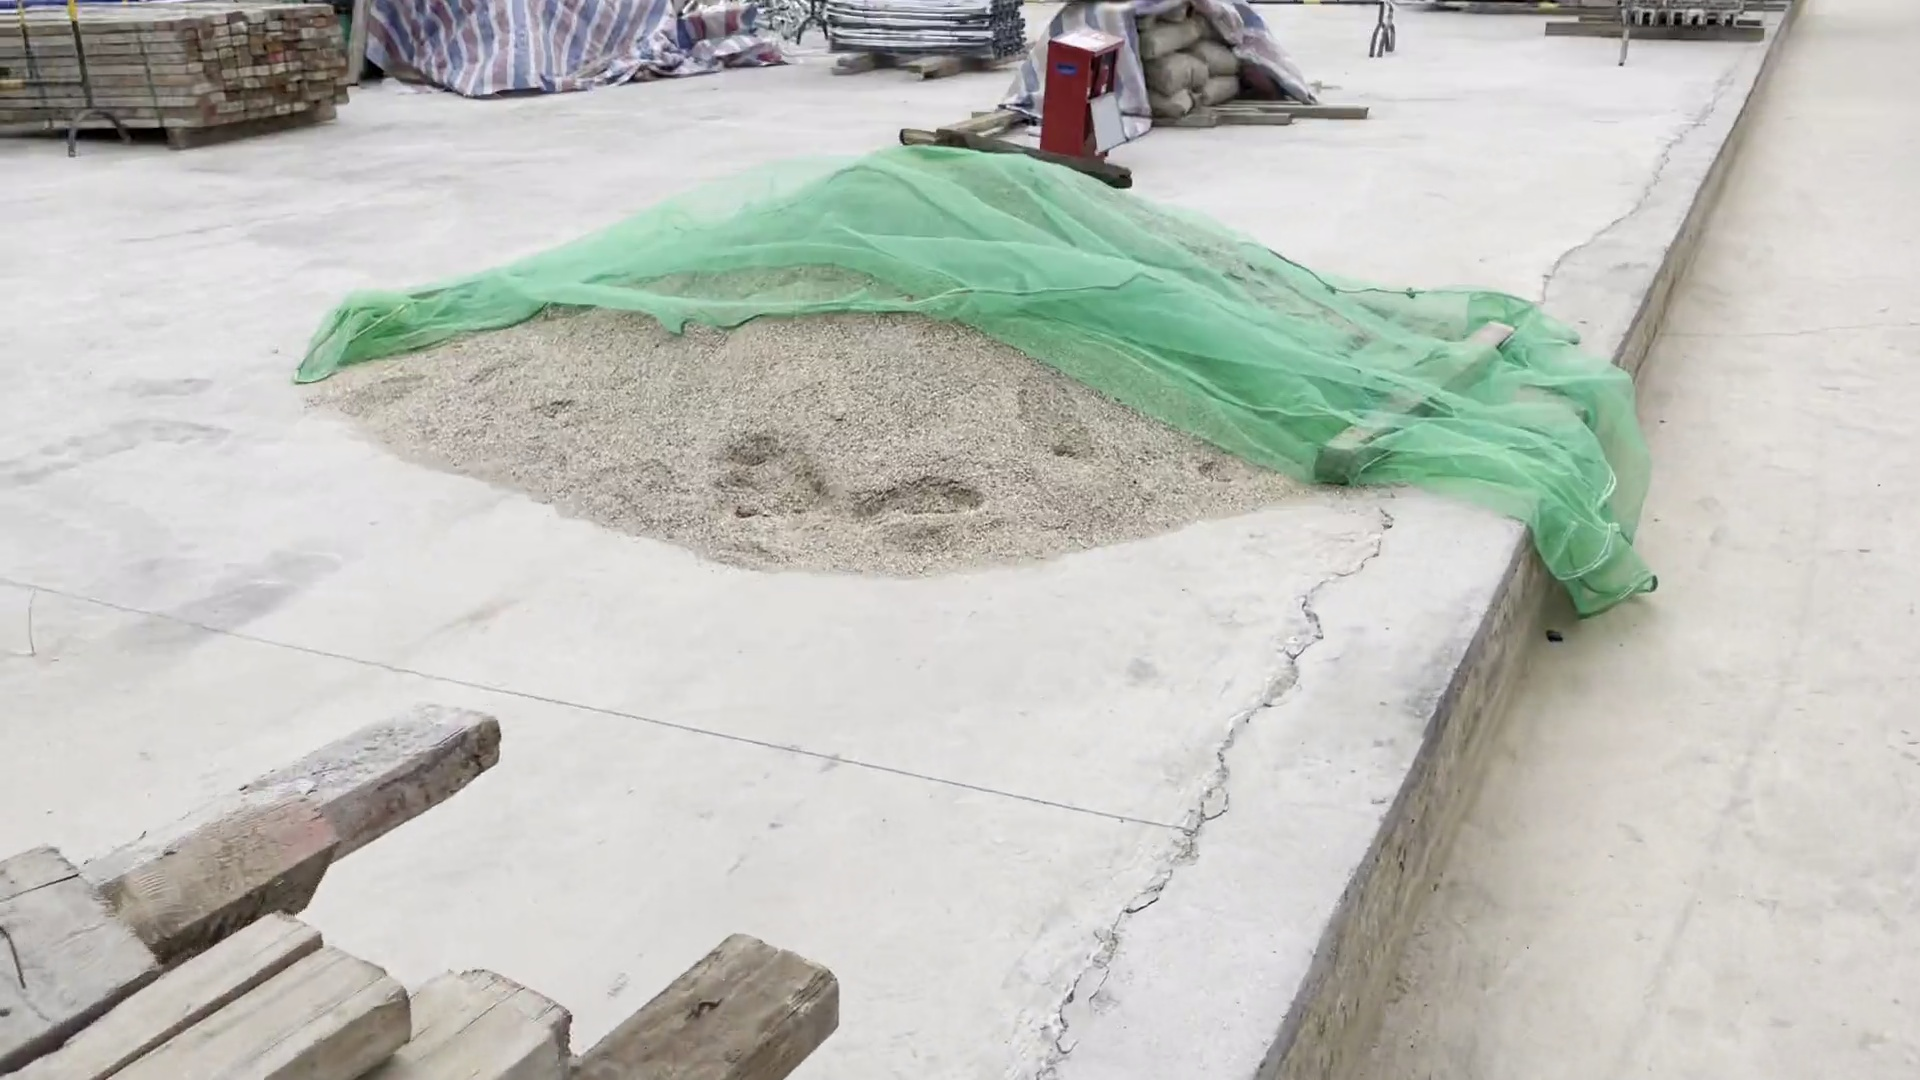wood: (1, 661, 873, 1080), (1, 3, 369, 162)
